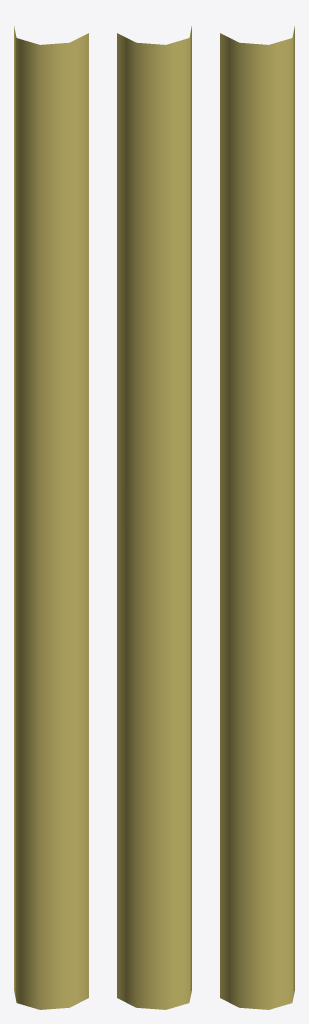
The model's file is tectospinal-tract.glb.
3 renders of one model, left to right at view 1: azimuth 30°, elevation 25°; view 2: azimuth 150°, elevation 25°; view 3: azimuth 330°, elevation 25°, orthographic.
Visible parts, largest first — view 1: Tectospinal tract; view 2: Tectospinal tract; view 3: Tectospinal tract.
Part boxes in pixels (x1,y1,x2,y2): Tectospinal tract: (14, 26, 88, 1009); Tectospinal tract: (117, 26, 191, 1009); Tectospinal tract: (220, 26, 294, 1009).
Size of the model in its own units: 0.000378 by 0.005 by 0.000341.
